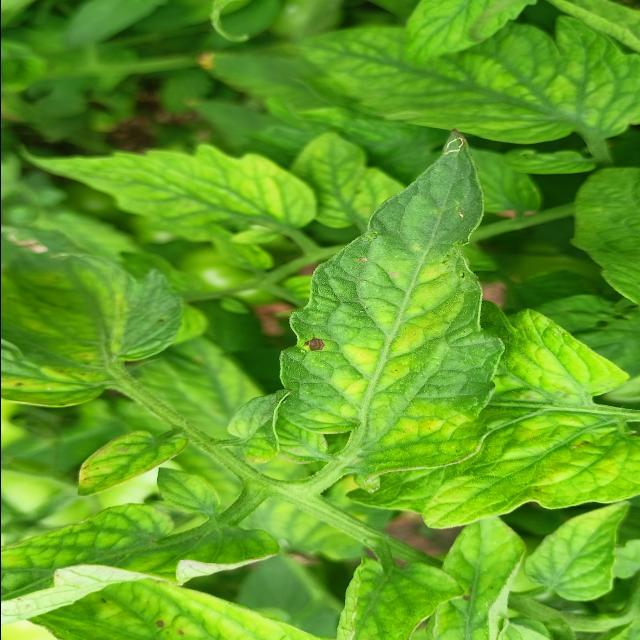Tomato mosaic virus leaf: (274, 245, 505, 398)
